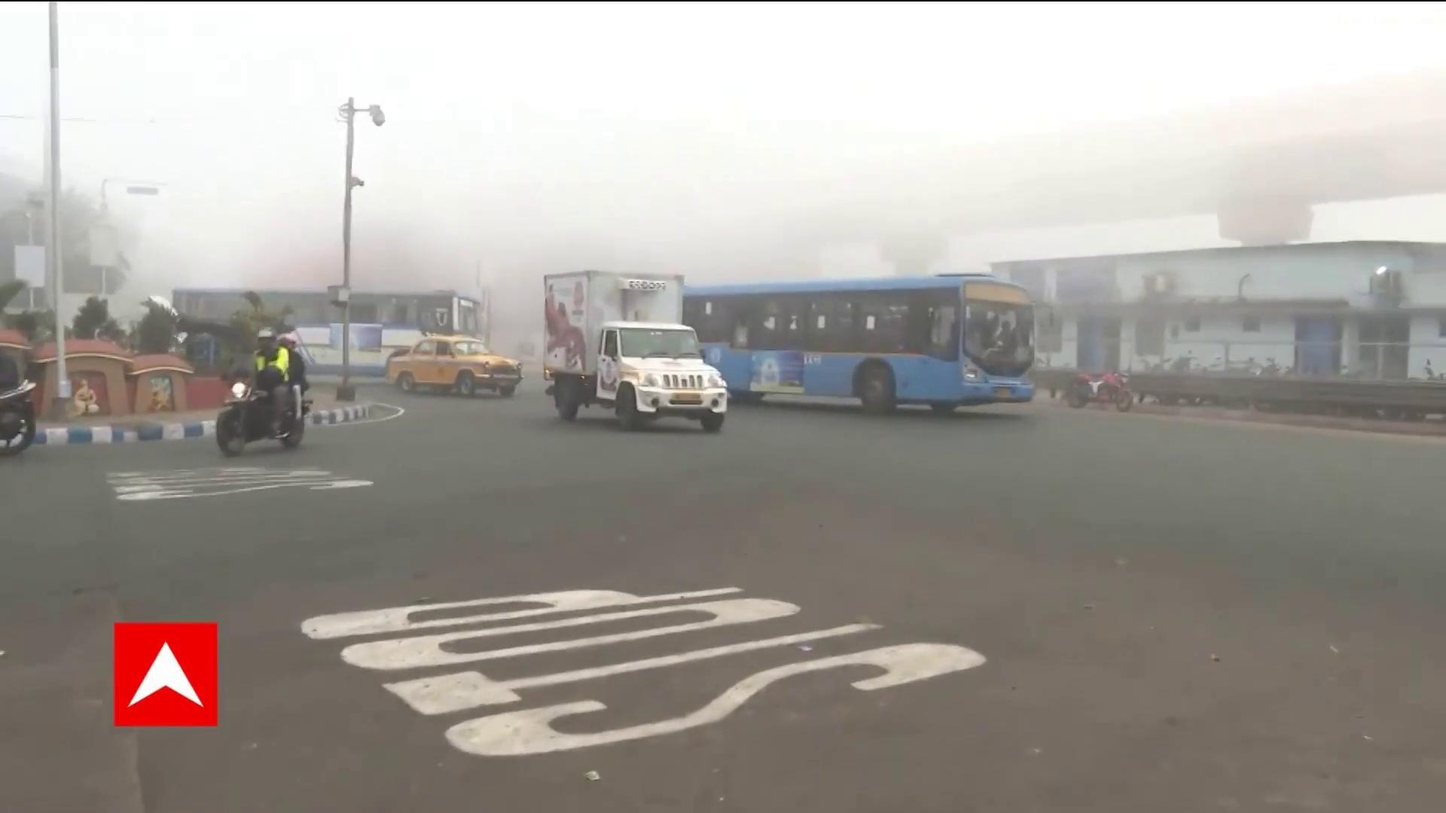Bike: (203, 330, 319, 466)
Bus: (685, 272, 1038, 416), (166, 279, 484, 384)
Car: (384, 328, 525, 404)
Truck: (542, 268, 733, 438)
